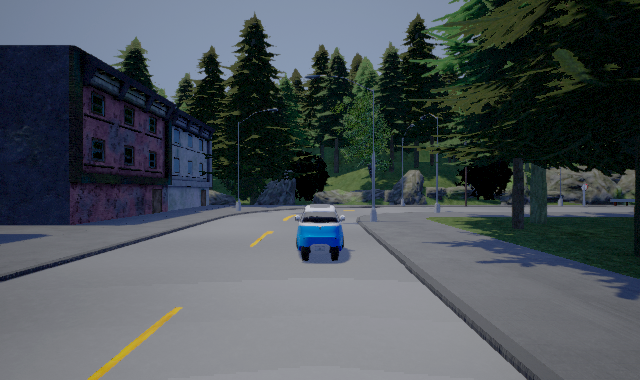vehicle: (295, 202, 345, 261)
